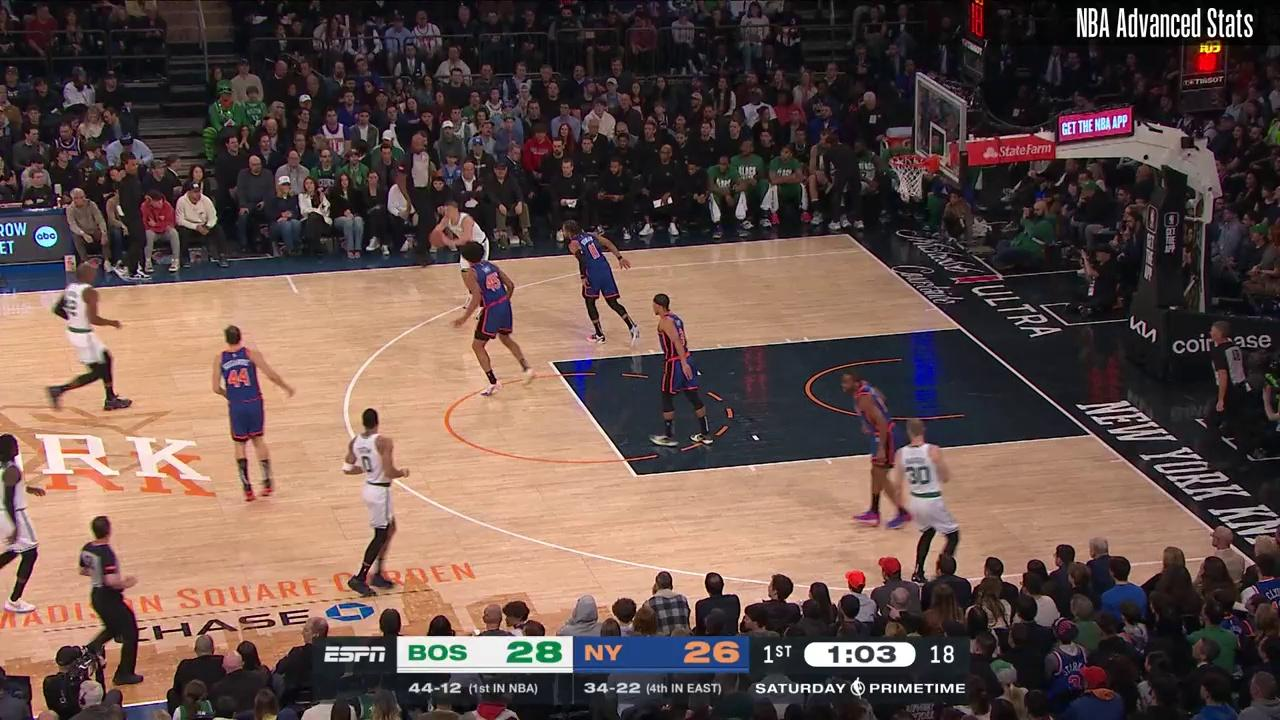3_sx: (858, 242, 876, 256)
b_sx: (840, 227, 854, 239)
free_adx: (631, 471, 643, 482)
free_asx: (546, 357, 559, 367)
free_bsx: (954, 321, 967, 332)
mid_dx: (1081, 425, 1099, 445), (471, 624, 482, 634)
mid_sx: (290, 288, 305, 299)
referee: (77, 516, 146, 689), (1202, 317, 1256, 473)
team: (46, 260, 134, 409), (895, 420, 973, 582), (349, 410, 407, 592), (0, 432, 48, 617), (432, 199, 502, 314)
team1: (212, 319, 287, 503), (836, 377, 913, 530), (461, 240, 531, 394), (558, 218, 643, 344), (649, 290, 714, 448)
timer: (809, 640, 916, 669)
